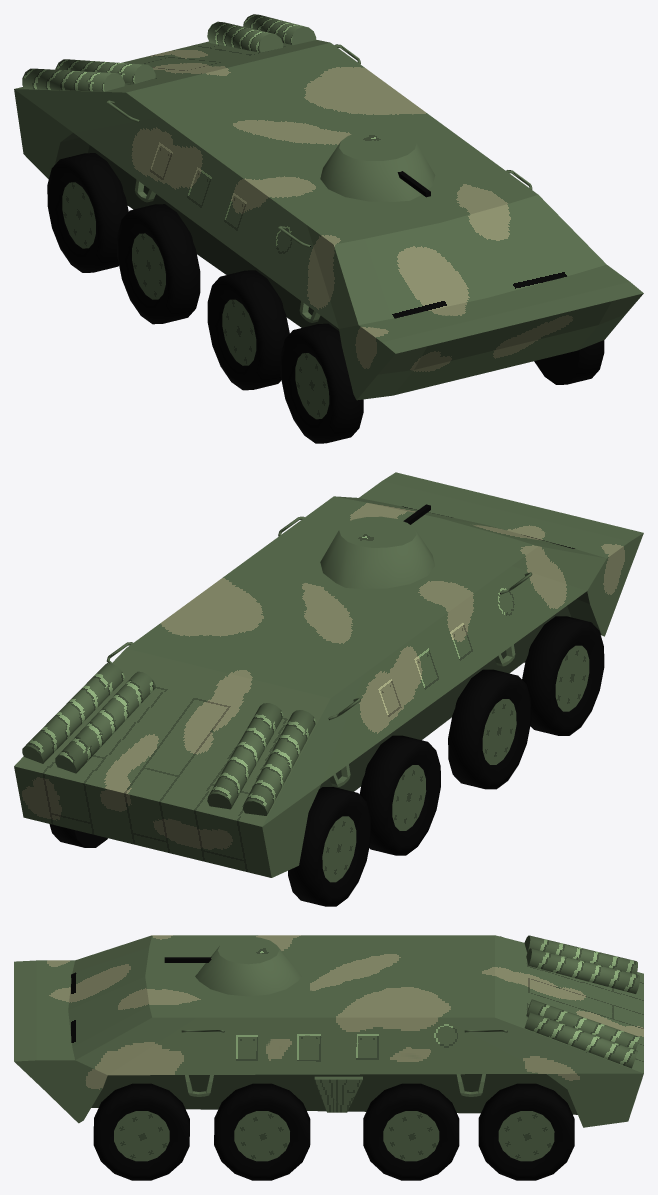
The model's file is btr.glb.
The picture shows the model from 3 angles, top to bottom: view 1: azimuth 30°, elevation 25°; view 2: azimuth 150°, elevation 25°; view 3: azimuth 270°, elevation 25°; orthographic projection. The views are drawn at different scales.
Parts seen in each view (by area): view 1: Cube; view 2: Cube; view 3: Cube.
Part boxes in pixels (left/top/right/bottom): Cube: left=14, top=14, right=643, bottom=443; Cube: left=14, top=472, right=643, bottom=906; Cube: left=14, top=935, right=643, bottom=1180.
Bounding box in the file's own units: 1.98 × 1.49 × 4.81.
Materials: 1 (1 with a texture image).
